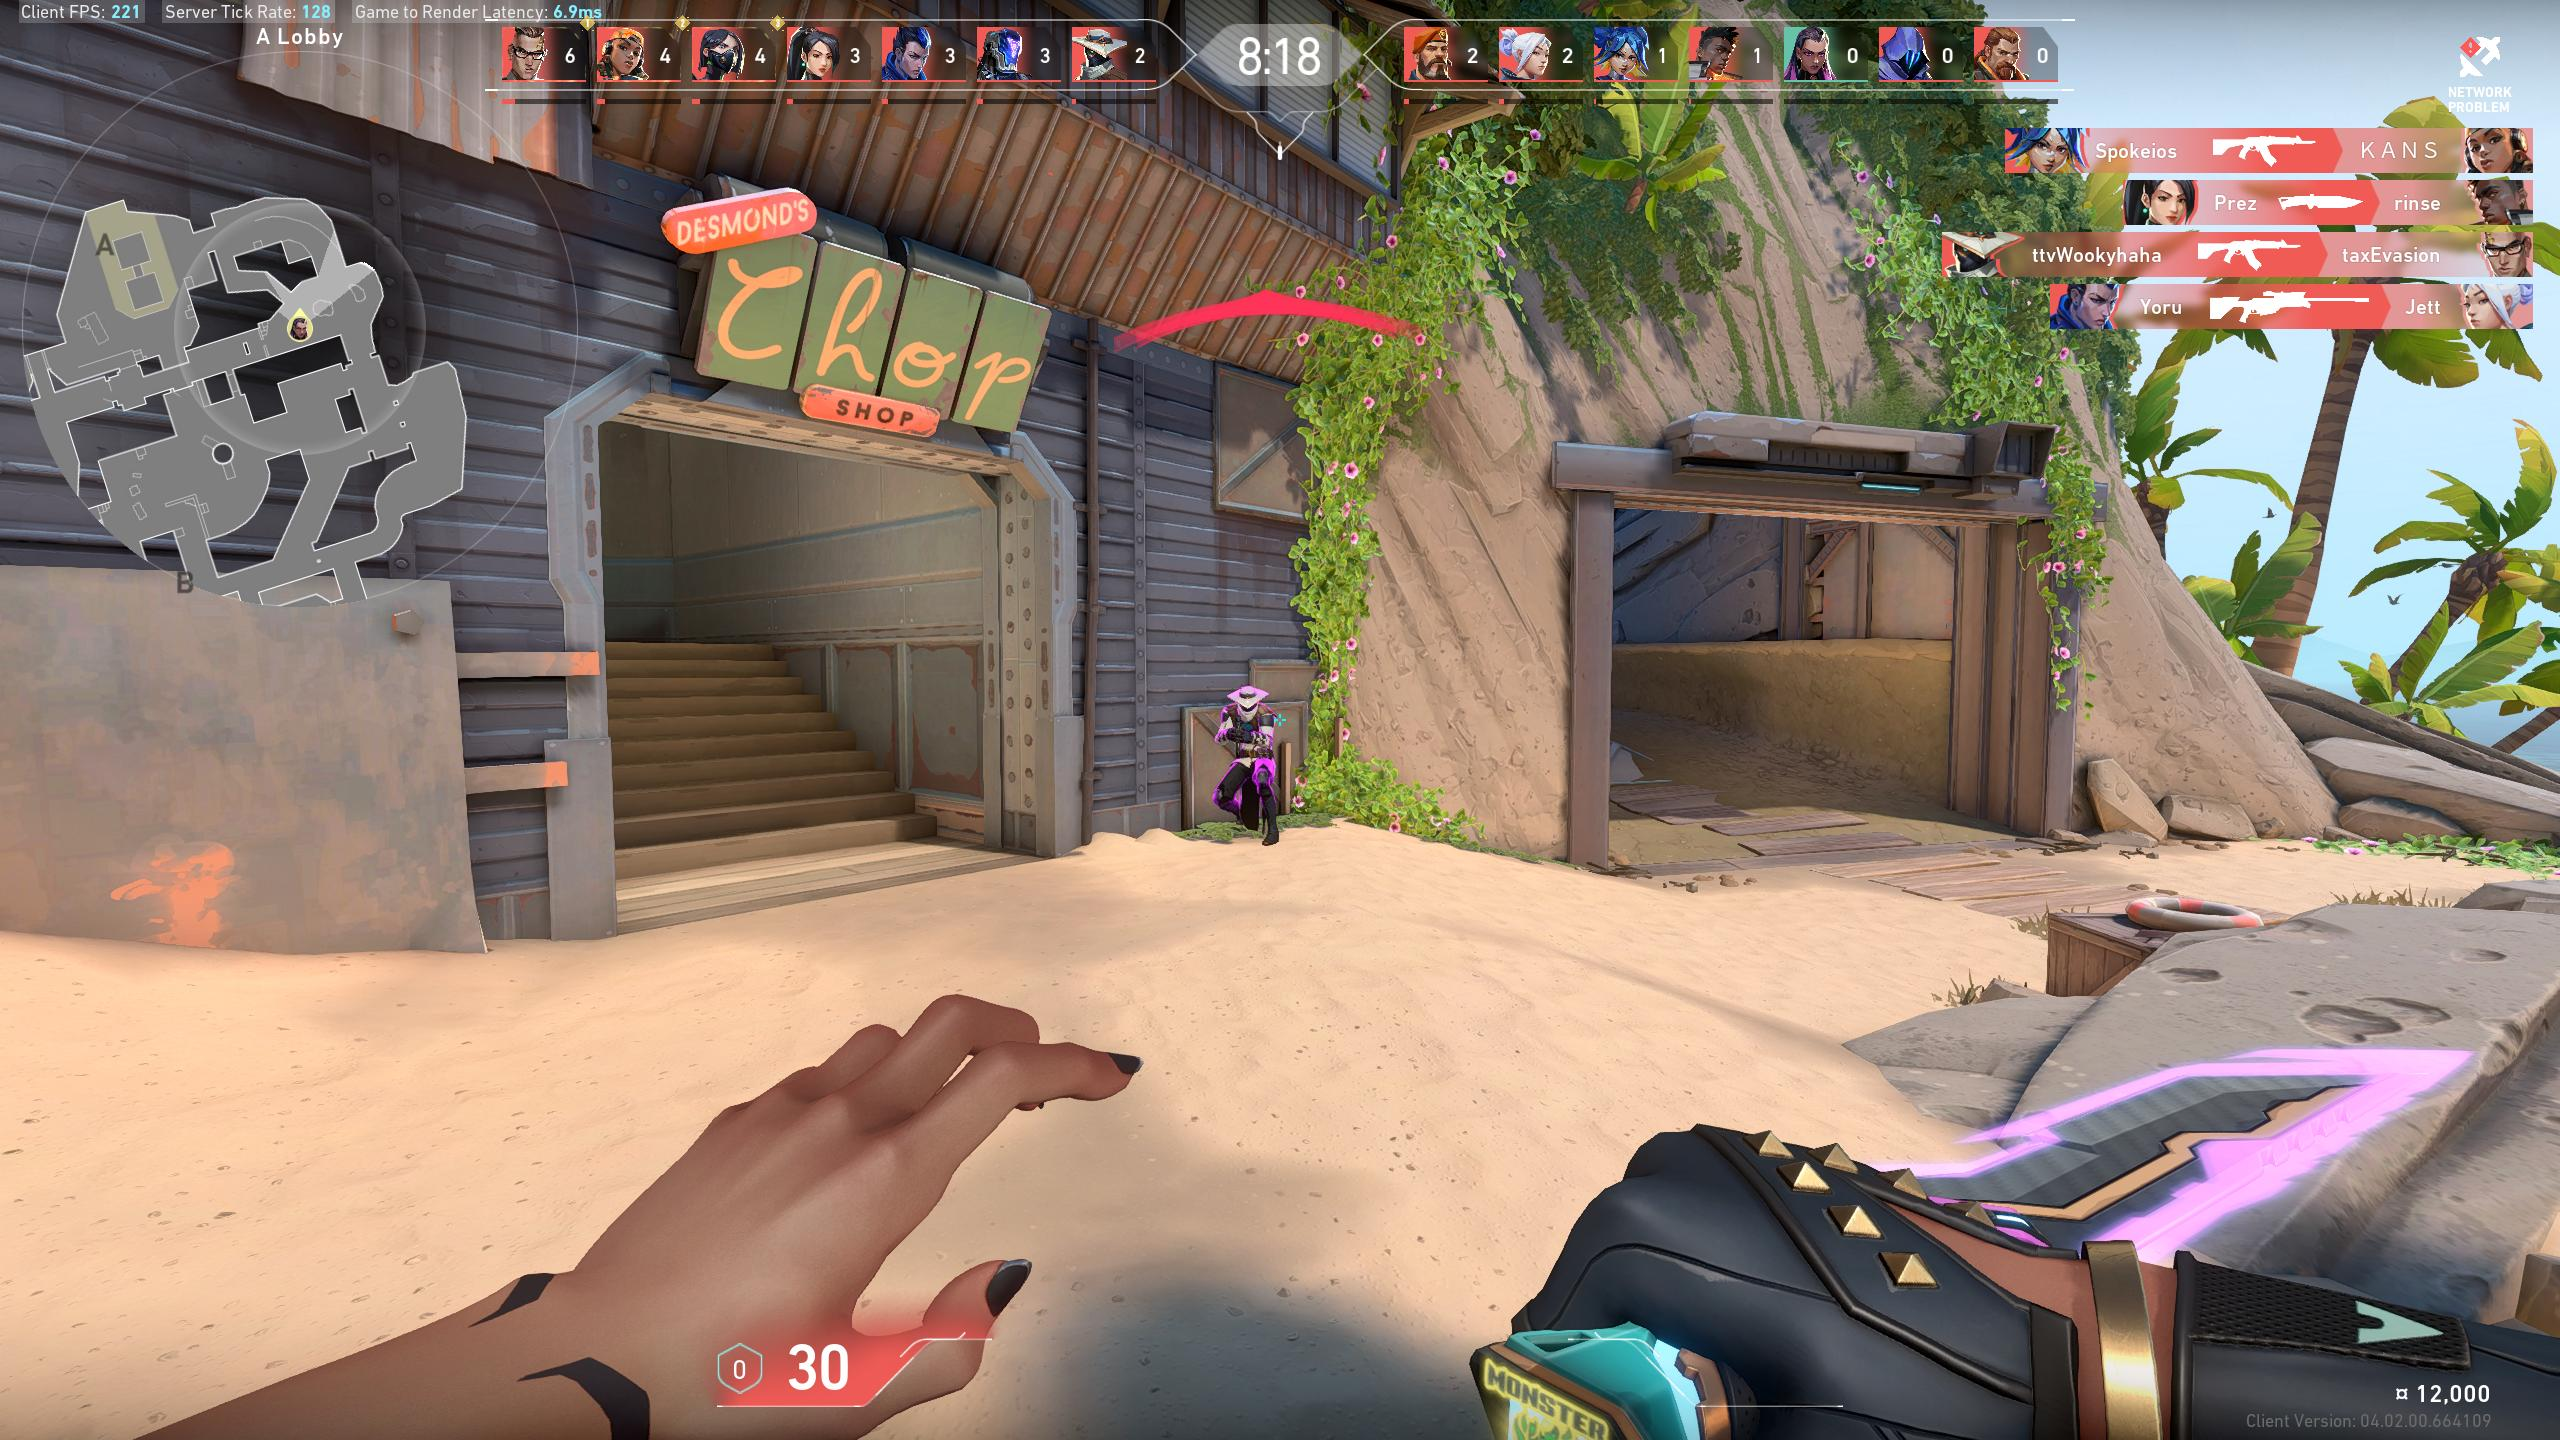enemyBody: (1236, 716, 1264, 753)
enemyHead: (1240, 695, 1257, 712)
